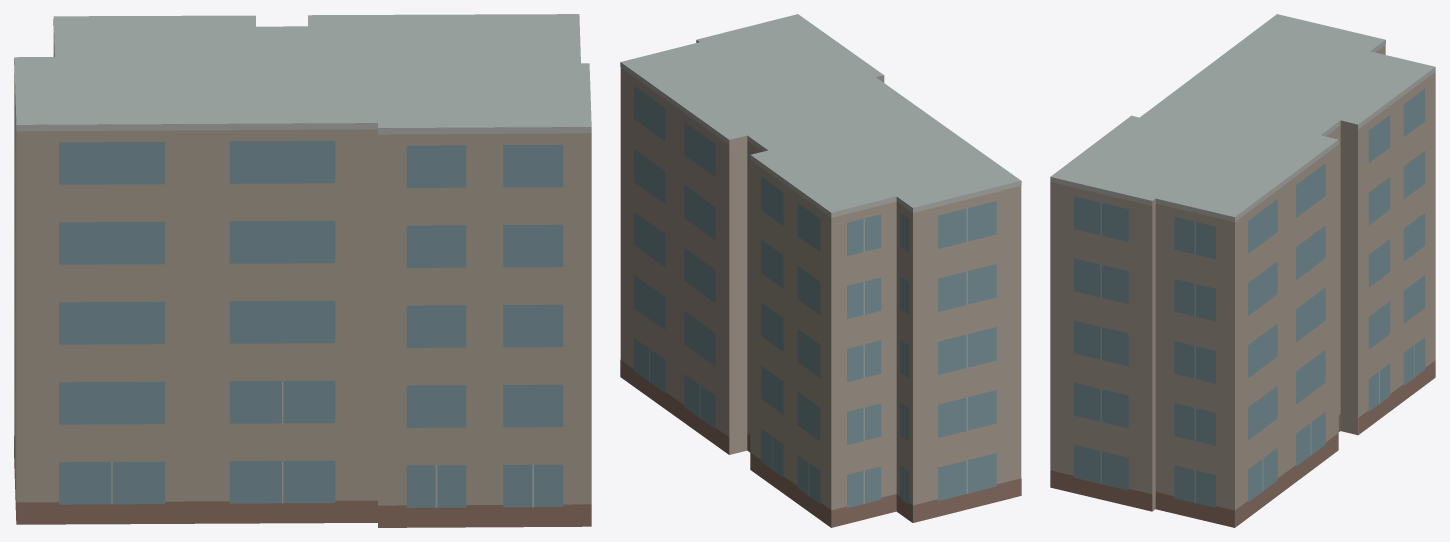
The model's file is survey-upis-32673583.glb.
The picture shows the model from 3 angles, left to right: view 1: azimuth 30°, elevation 25°; view 2: azimuth 150°, elevation 25°; view 3: azimuth 270°, elevation 25°; orthographic projection. The views are drawn at different scales.
Parts seen in each view (by area): view 1: survey-upis-32673583.tmp; view 2: survey-upis-32673583.tmp; view 3: survey-upis-32673583.tmp.
Boxes of the visible parts, x1,y1,x2,y2 form: survey-upis-32673583.tmp: [14, 14, 591, 527]; survey-upis-32673583.tmp: [620, 14, 1021, 527]; survey-upis-32673583.tmp: [1050, 14, 1435, 527].
Size of the model in its own units: 21.33 by 15.2 by 17.1.
